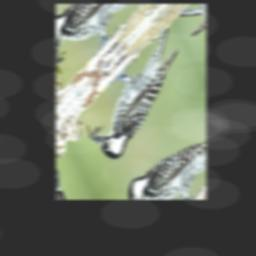Woodpecker: (80, 25, 196, 171)
